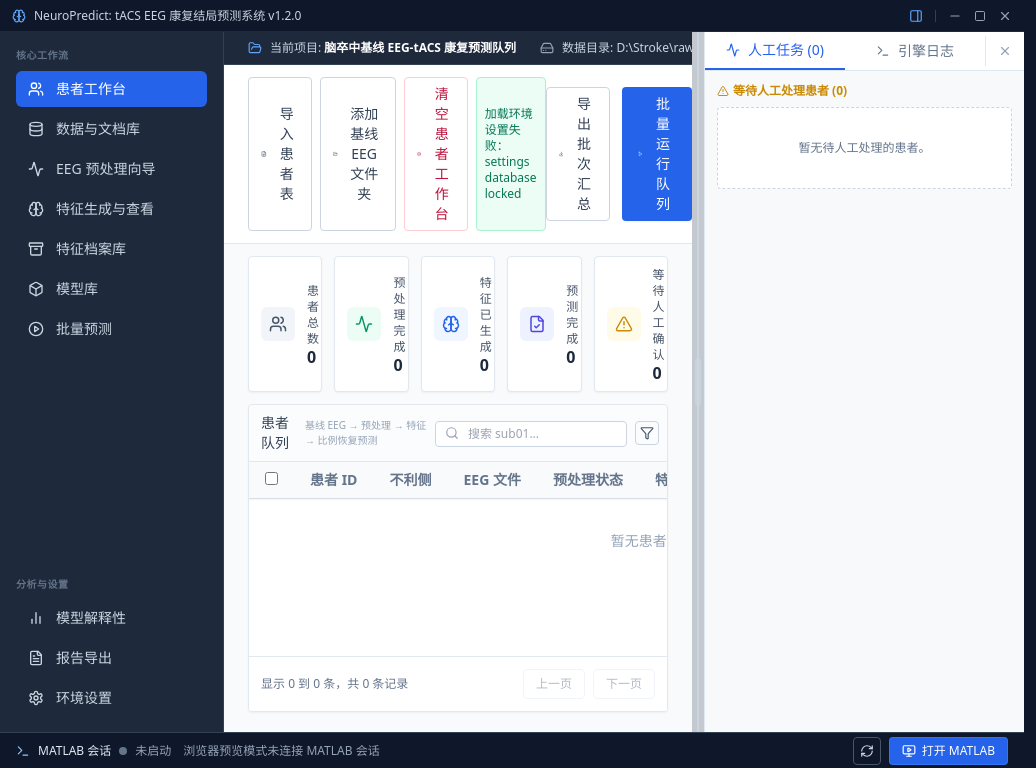
Test: settings persistence in the active app › shows a visible message when settings loading fails without breaking render
The width and height of the screenshot is (1036, 768).
Click the button "环境设置" at (112, 698), box [16,680,207,716]
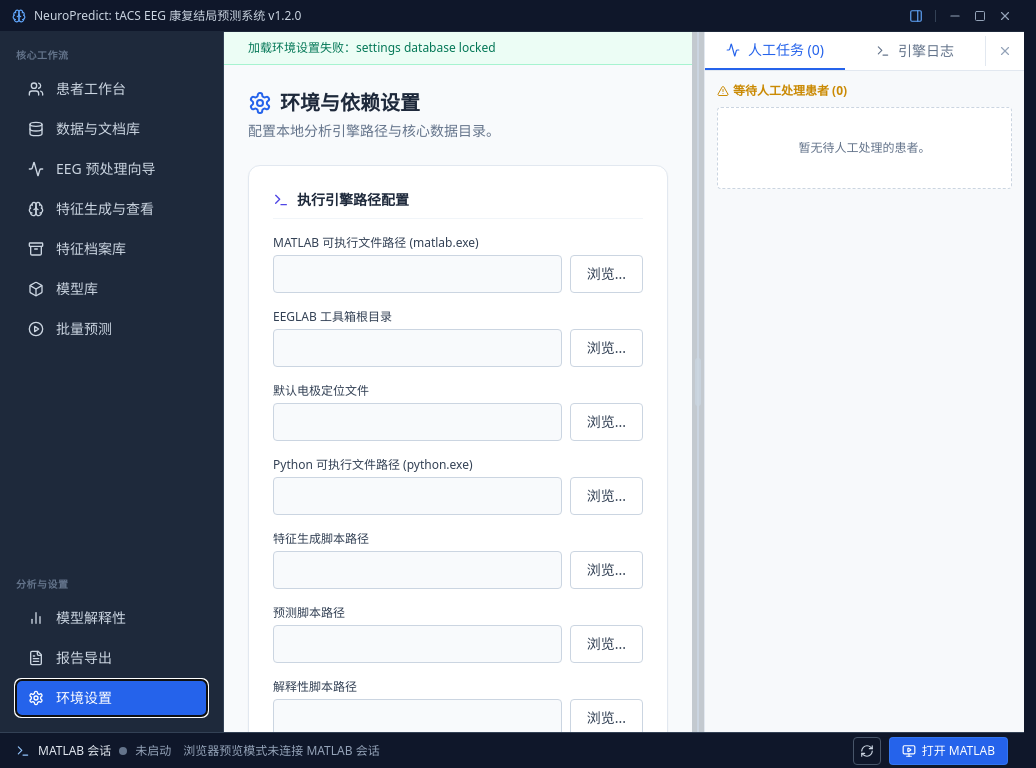
Expected: the text "加载环境设置失败：settings database locked" is shown, [224,32,692,65]
Expected: the heading "环境与依赖设置" is shown, [248,89,420,116]
